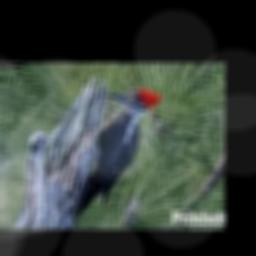Woodpecker: (74, 88, 162, 221)
